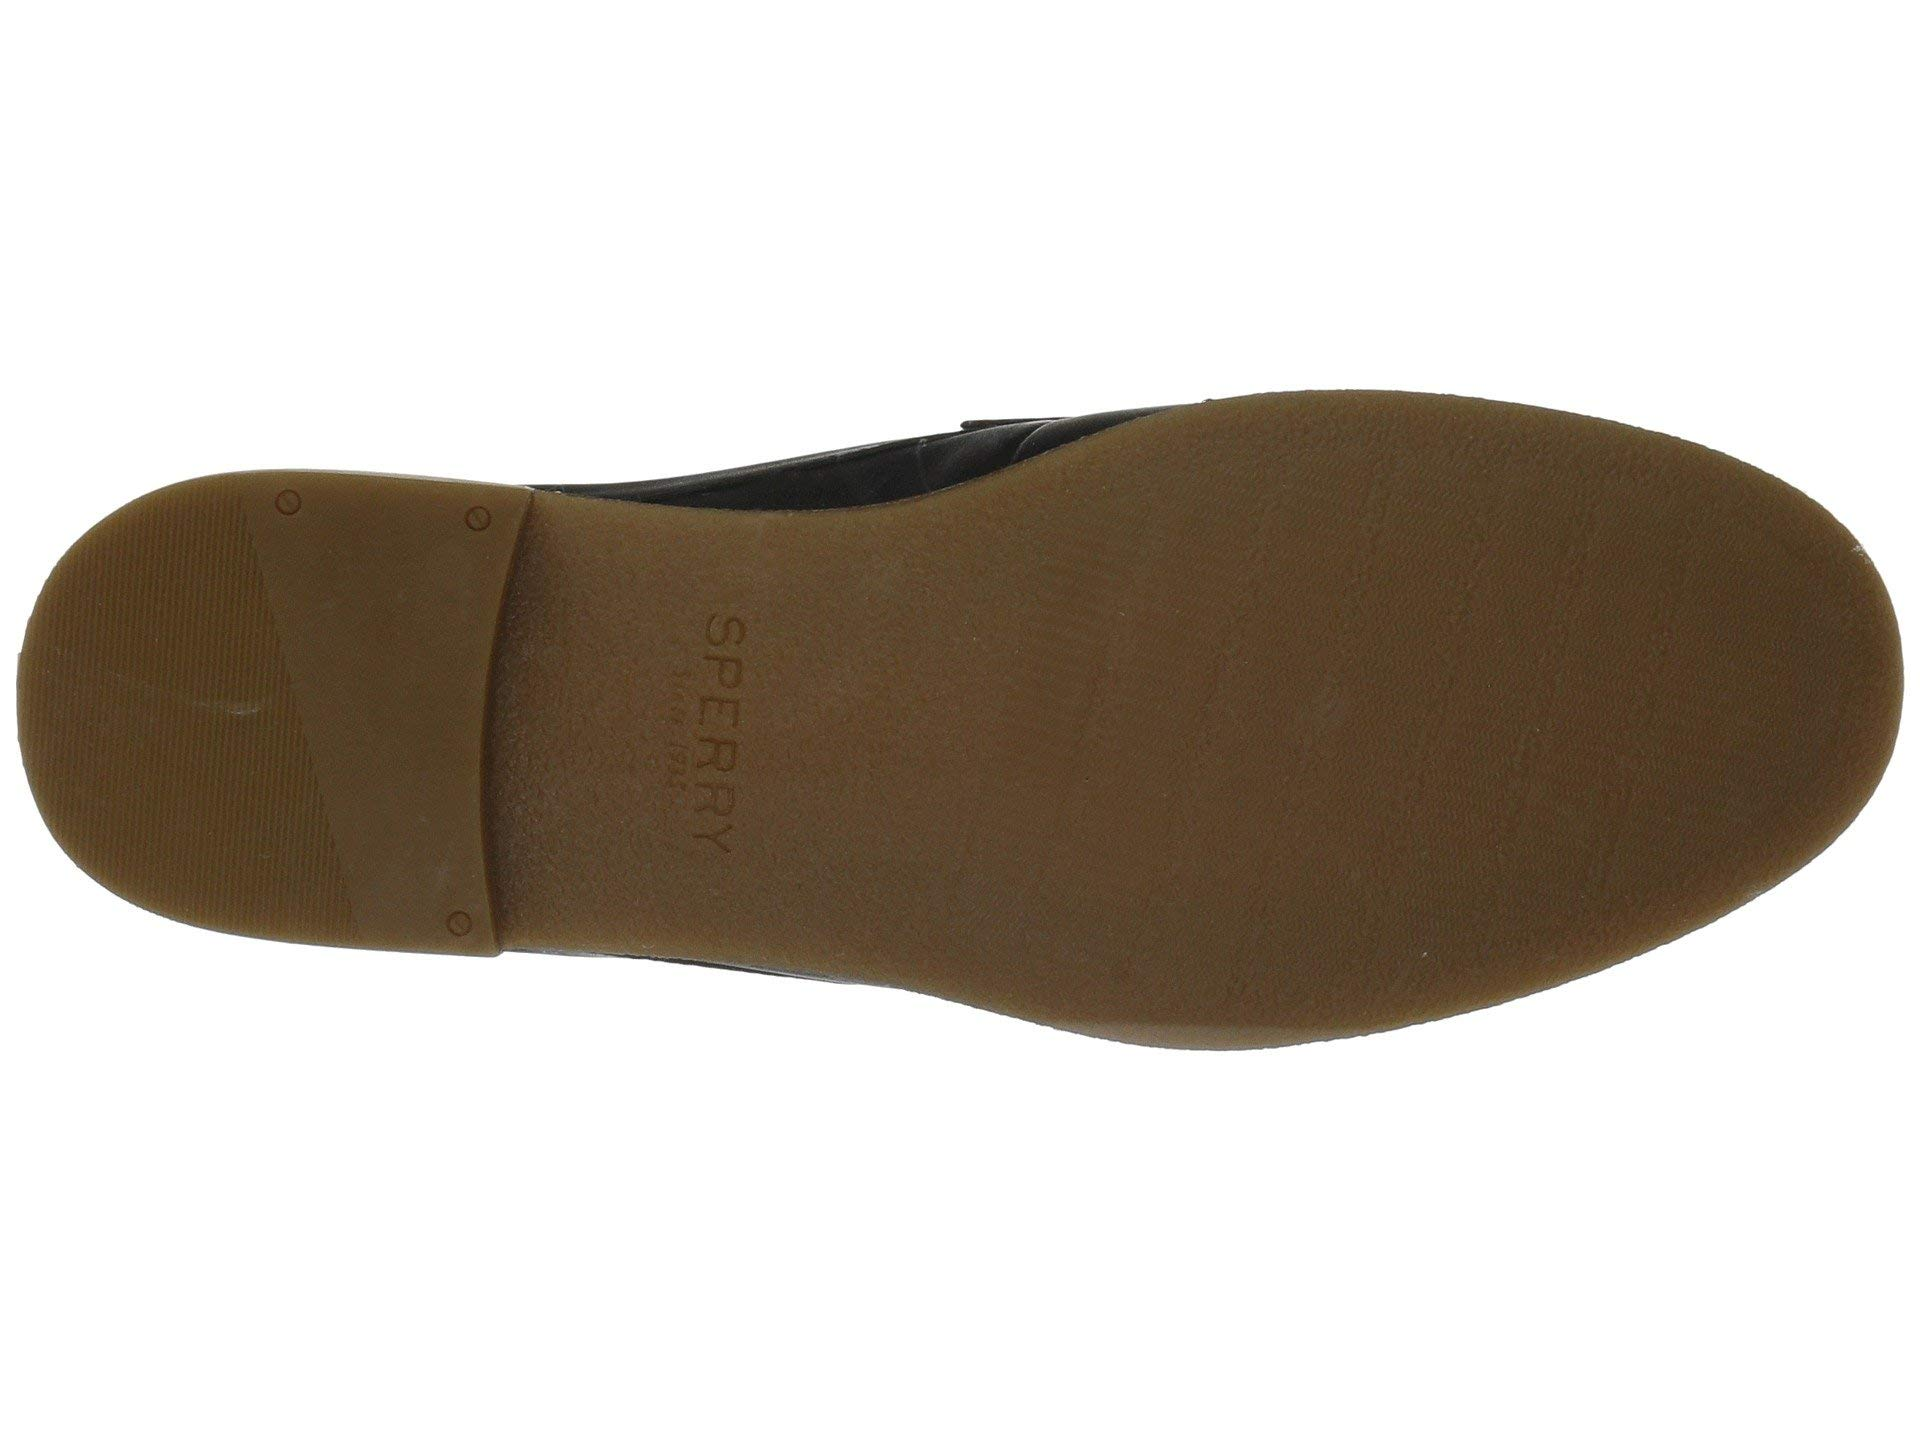text: (565, 566, 909, 908)
